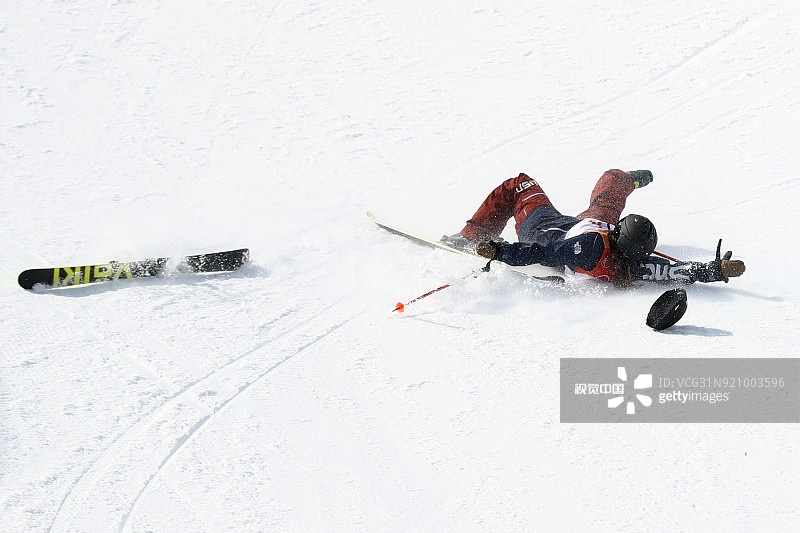falling: (379, 153, 759, 313)
